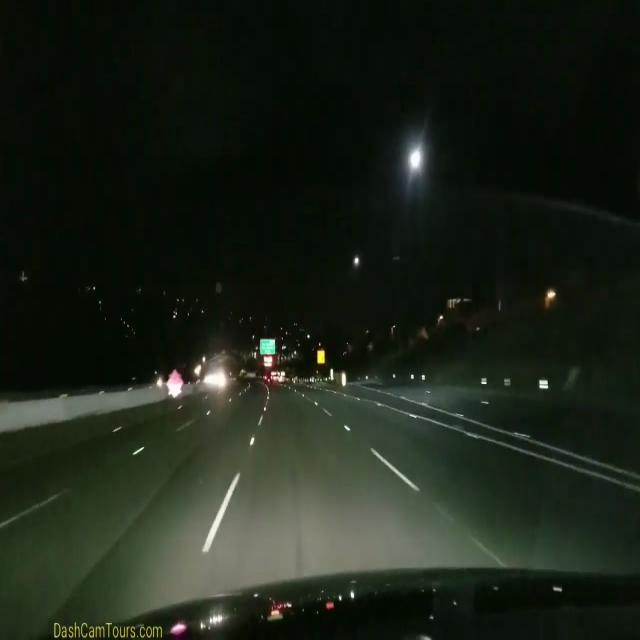street-signs: (260, 338, 275, 355)
